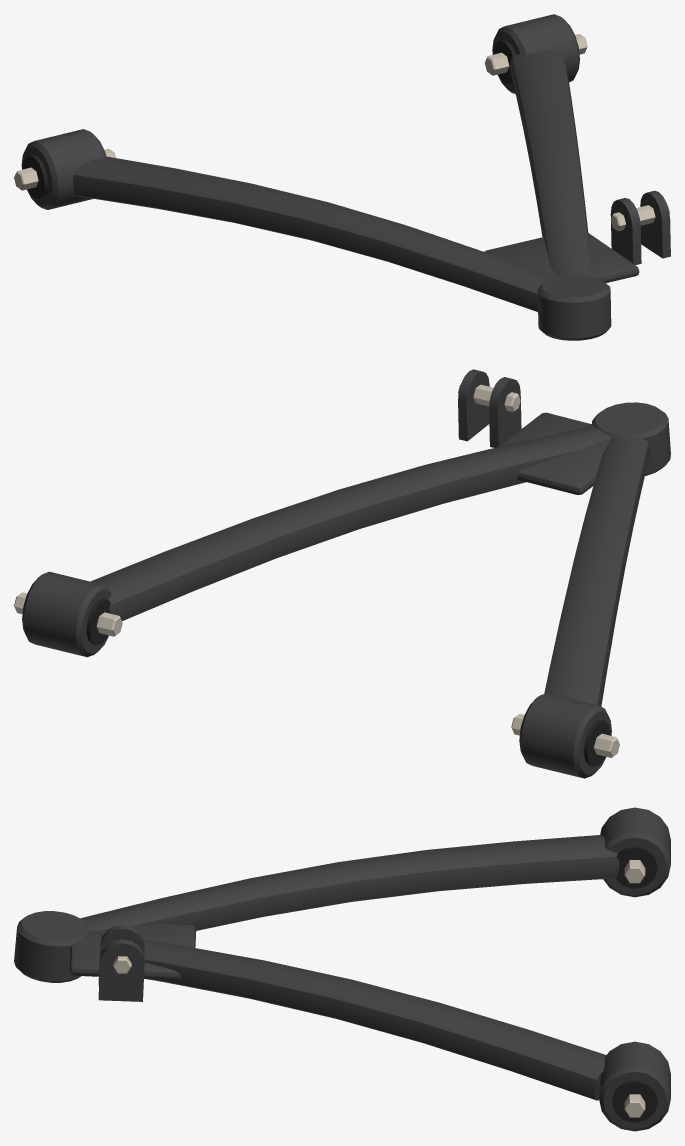
The model's file is SM_Susp_RR_LowerArm.fbx.
3 renders of one model, top to bottom at view 1: azimuth 30°, elevation 25°; view 2: azimuth 150°, elevation 25°; view 3: azimuth 270°, elevation 25°, orthographic. The views are drawn at different scales.
Parts seen in each view (by area): view 1: Export_Susp_RR_LowerArm; view 2: Export_Susp_RR_LowerArm; view 3: Export_Susp_RR_LowerArm.
Boxes of the visible parts, x1,y1,x2,y2 form: Export_Susp_RR_LowerArm: (14,14,670,340); Export_Susp_RR_LowerArm: (14,369,670,778); Export_Susp_RR_LowerArm: (14,807,670,1131).
Size of the model in its own units: 0.4743 by 0.48 by 0.0892.
